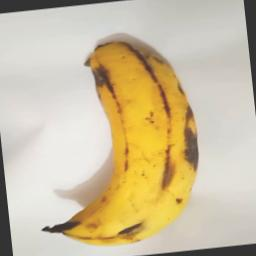Banana Unripe: (14, 30, 210, 254)
